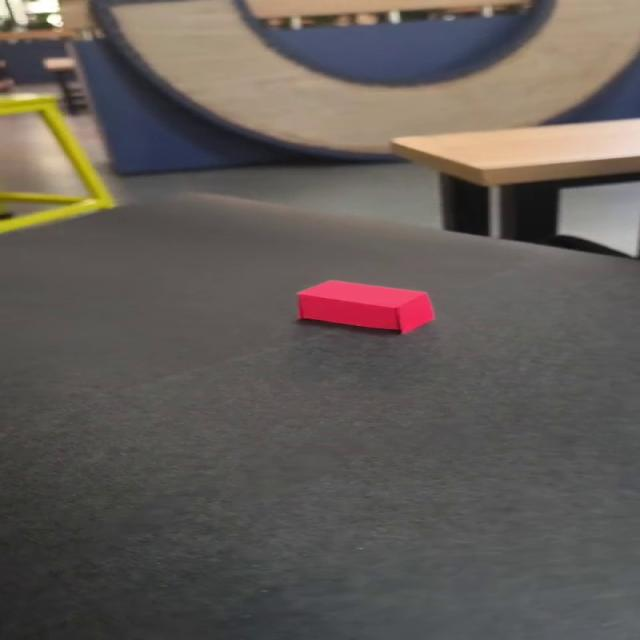red block: (294, 279, 434, 334)
